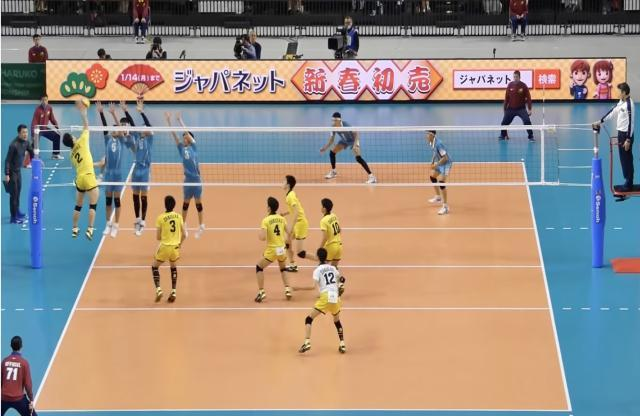spike: (61, 96, 102, 241)
